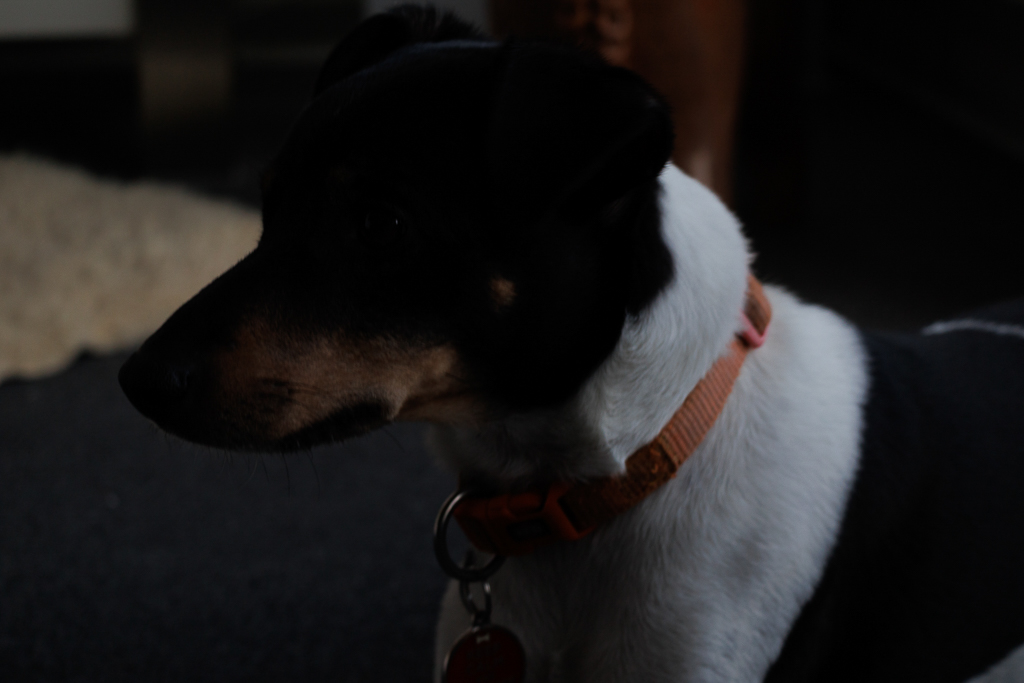Cattle: (461, 0, 746, 215)
Dog: (105, 0, 1024, 683)
